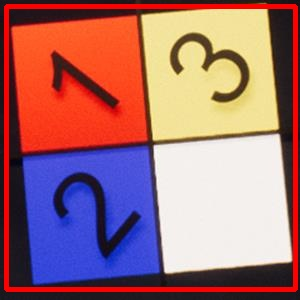nfpa: (6, 6, 295, 289)
